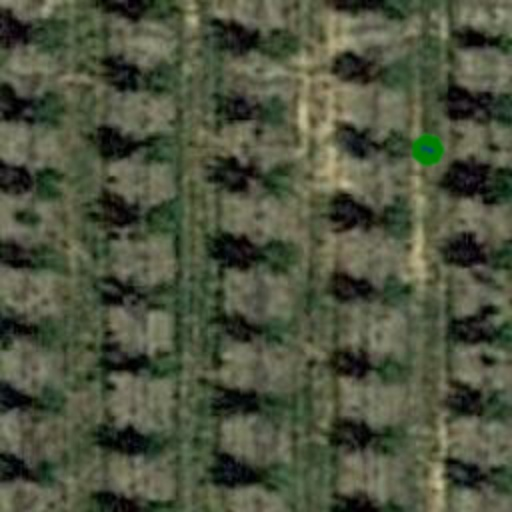heptagon: (406, 128, 450, 172)
